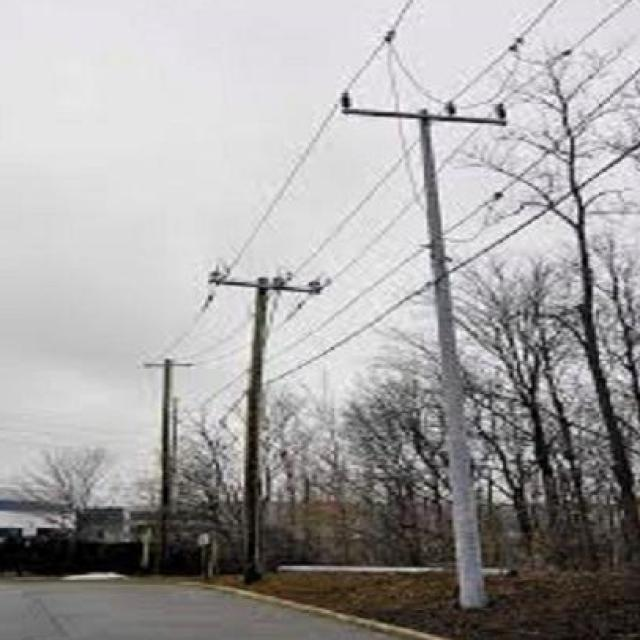non-critical vegetation: (336, 76, 498, 608), (210, 247, 318, 584), (138, 350, 192, 576)
